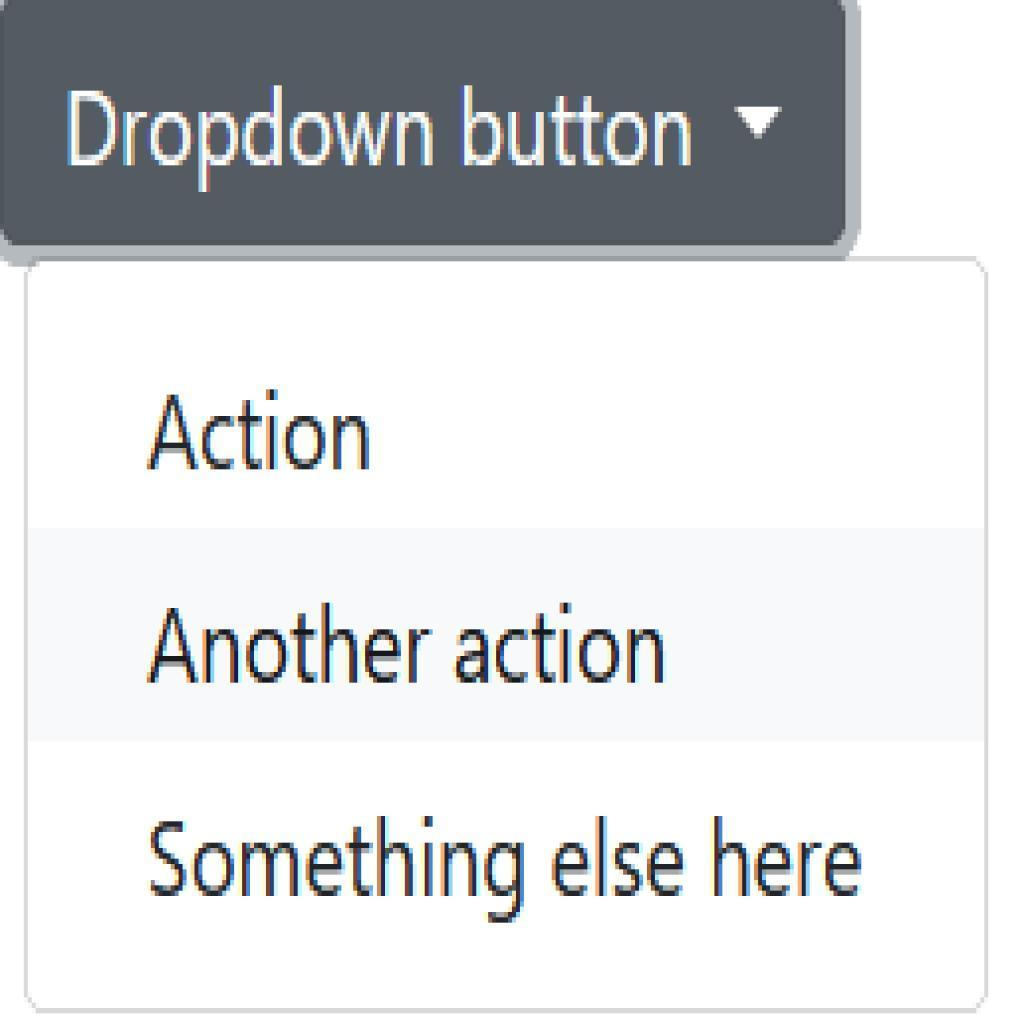dropdown: (1, 1, 864, 266)
